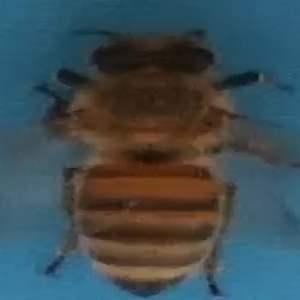bee: (33, 22, 293, 297)
